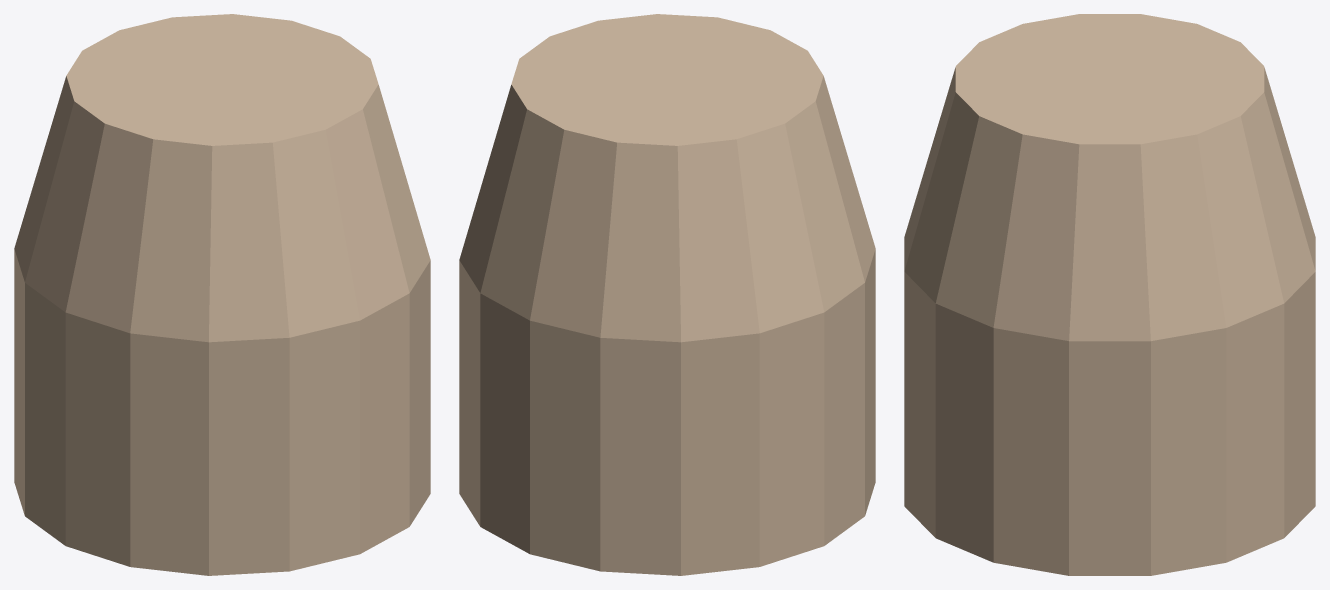
File: hamal_avionics_s1_1_collider.obj
The picture shows the model from 3 angles, left to right: view 1: azimuth 30°, elevation 25°; view 2: azimuth 150°, elevation 25°; view 3: azimuth 270°, elevation 25°; orthographic projection.
Parts seen in each view (by area): view 1: collider; view 2: collider; view 3: collider.
Boxes of the visible parts, box(x1,y1,x2,y2) form: collider: box(14, 14, 430, 575); collider: box(459, 14, 875, 575); collider: box(904, 14, 1315, 575).
Bounding box in the file's own units: 1.25 × 1.38 × 1.25.
